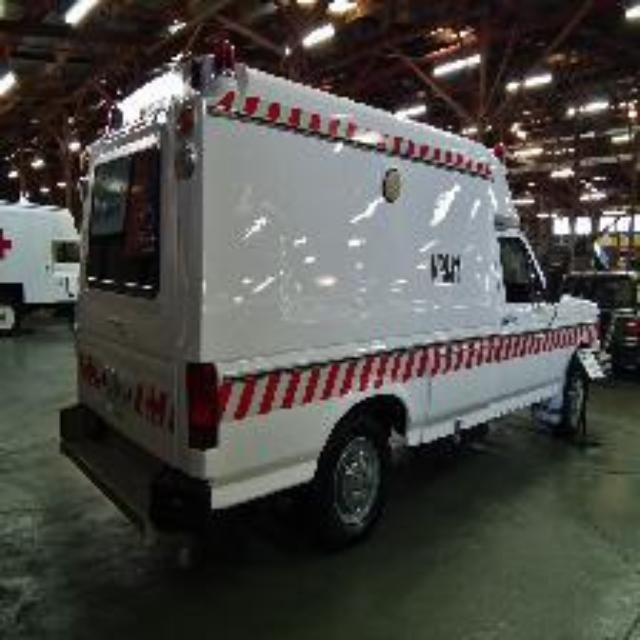emergency: (87, 64, 595, 538)
